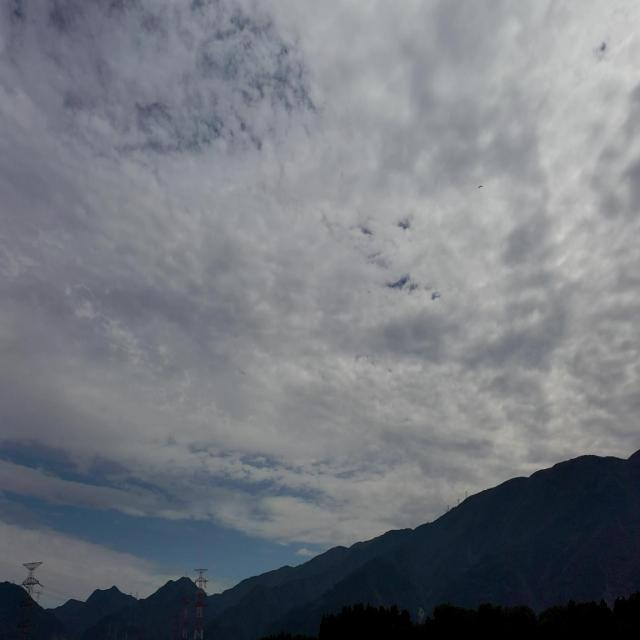Birds: (476, 181, 486, 191)
